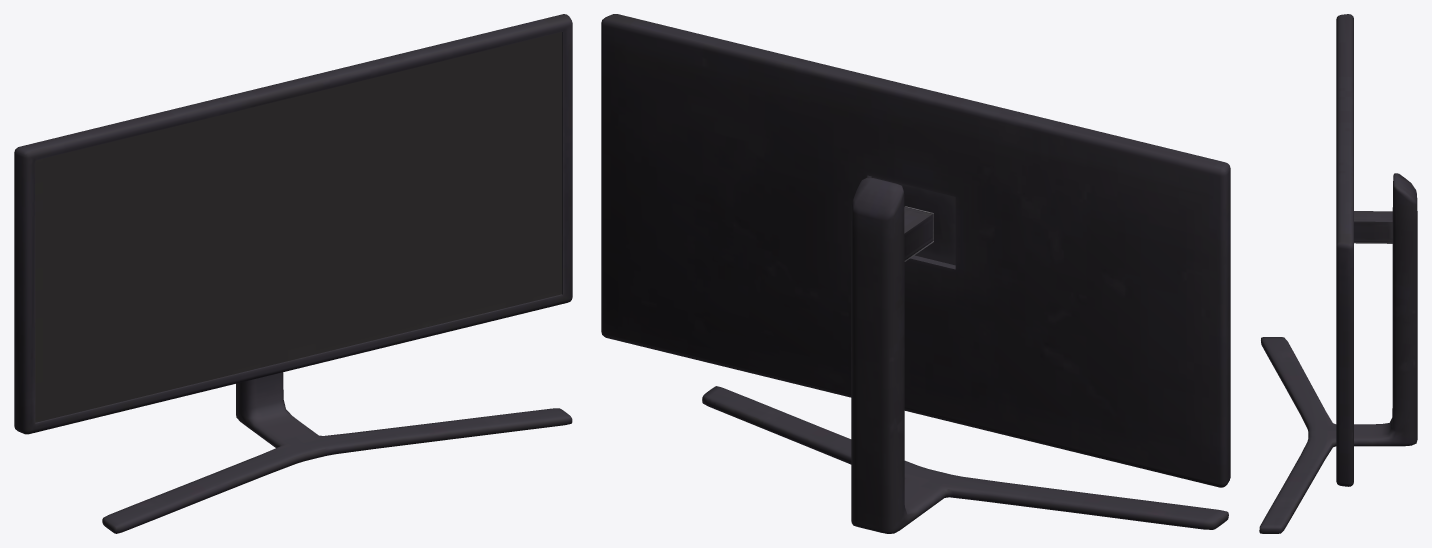
The model's file is monitor.glb.
The picture shows the model from 3 angles, left to right: view 1: azimuth 30°, elevation 25°; view 2: azimuth 150°, elevation 25°; view 3: azimuth 270°, elevation 25°; orthographic projection. The views are drawn at different scales.
Visible parts, largest first — view 1: Object_8; view 2: Object_8; view 3: Object_8.
Part boxes in pixels (left/top/right/bottom): Object_8: left=14, top=14, right=572, bottom=533; Object_8: left=601, top=14, right=1230, bottom=533; Object_8: left=1259, top=14, right=1417, bottom=533.
Size of the model in its own units: 52 by 32.43 by 14.96.
Materials: 1 (1 with a texture image).
